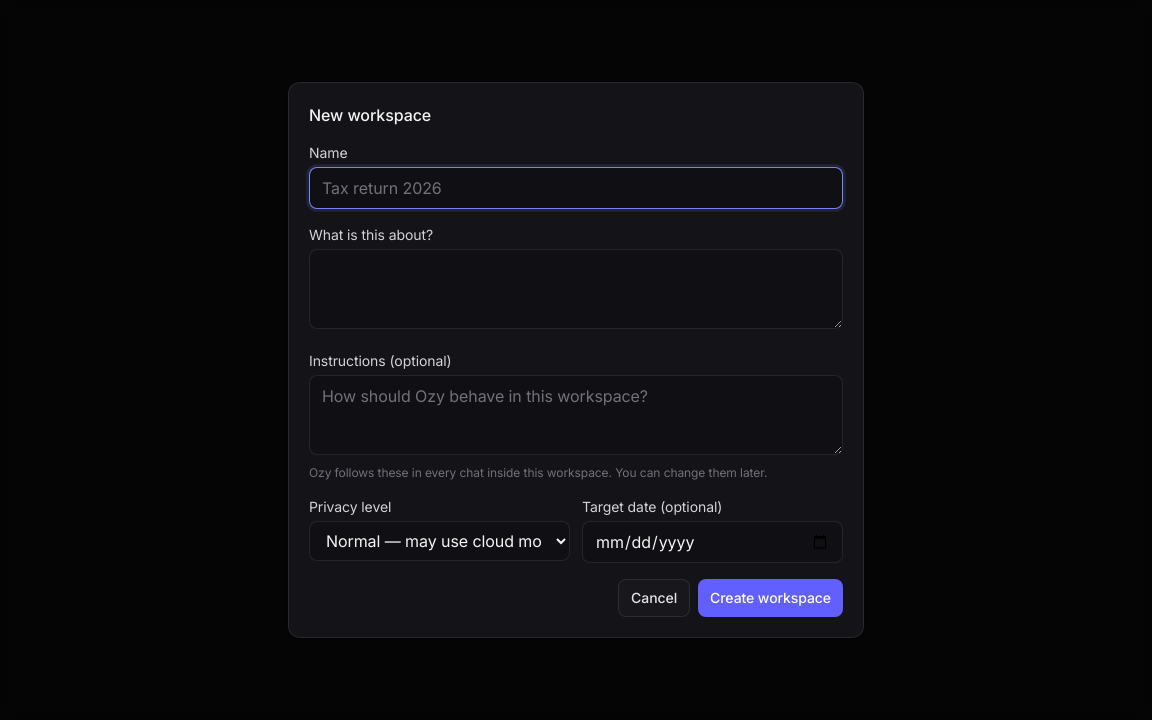
it: CreateProjectDialog › requires a name
The image size is (1152, 720).
Click the button "Create workspace" at coordinates (771, 598), box [698,579,843,617]
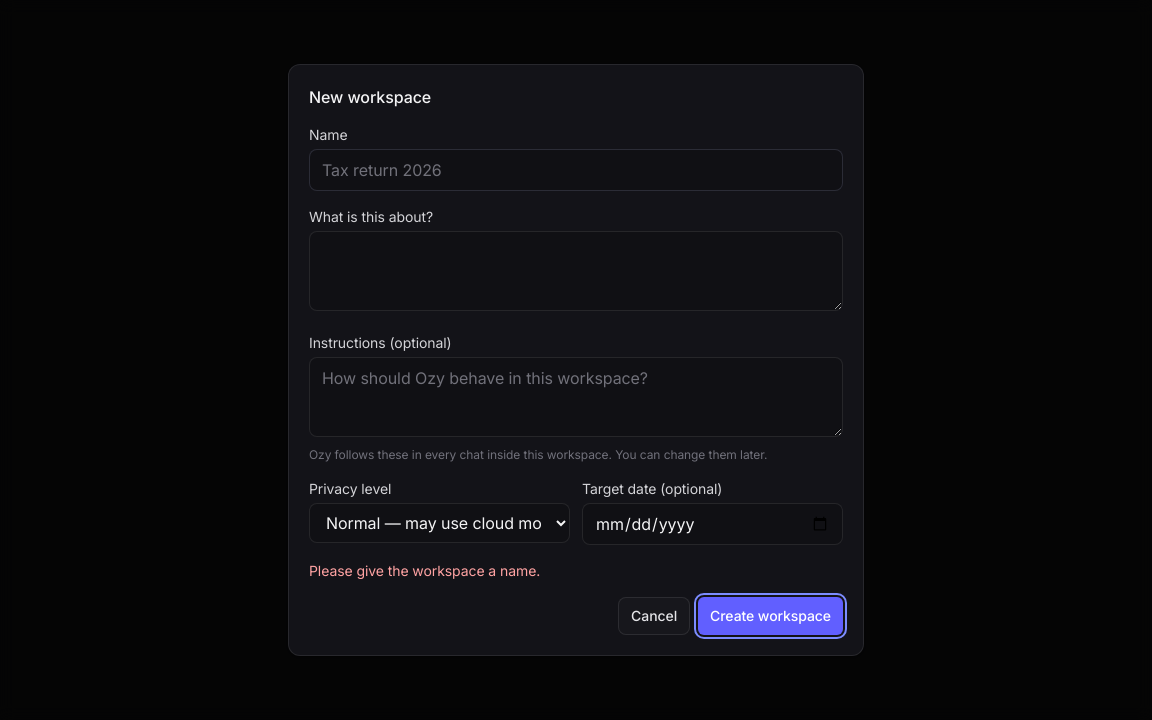
Expected: the text "Please give the workspace a name." is shown, [309,562,540,579]
